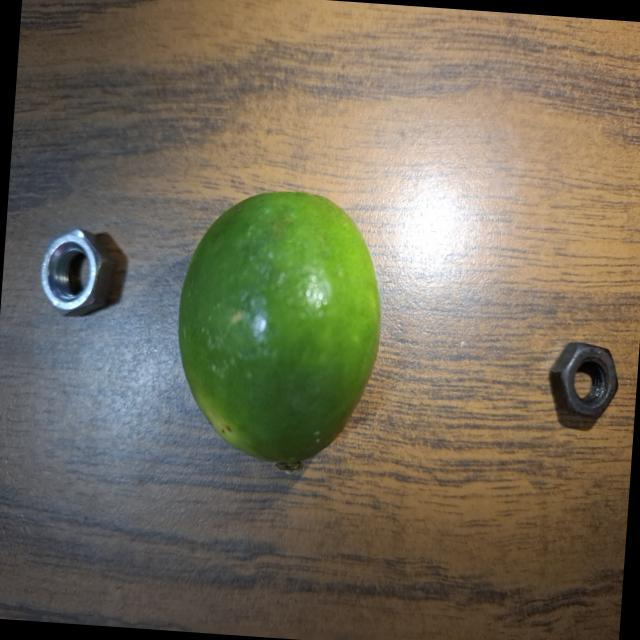limon: (166, 180, 392, 480)
milimetrico: (538, 338, 623, 432)
tuerca: (25, 219, 117, 328)
